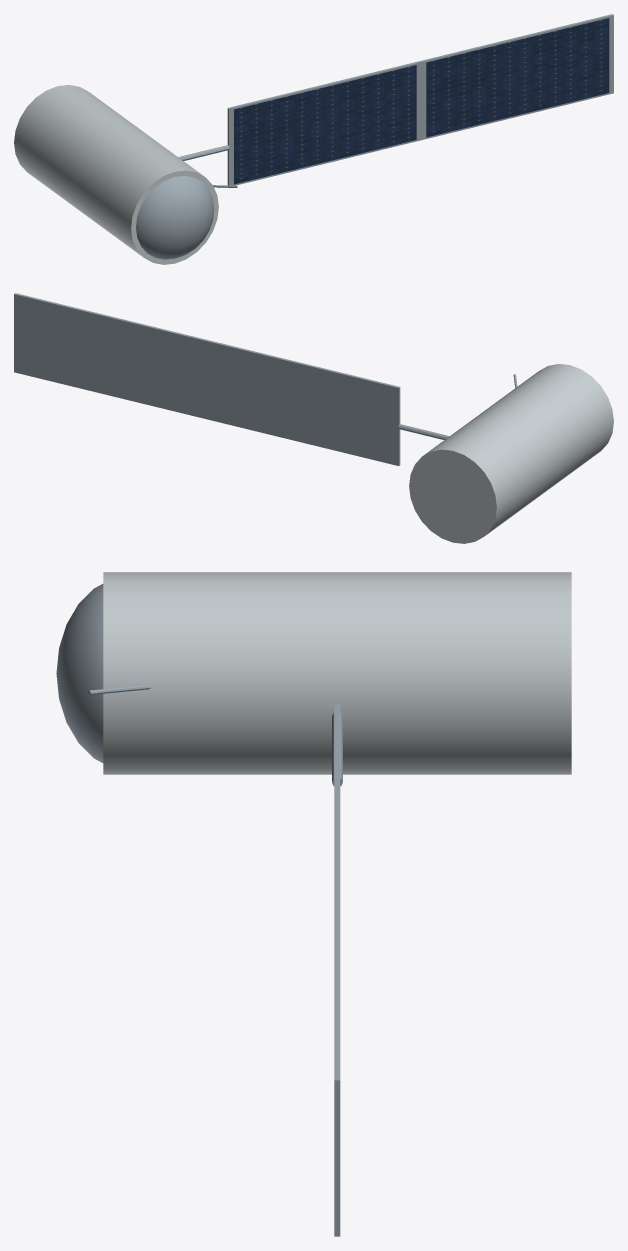
File: ref-object-d-746.glb
3 renders of one model, top to bottom at view 1: azimuth 30°, elevation 25°; view 2: azimuth 150°, elevation 25°; view 3: azimuth 270°, elevation 25°, orthographic. The views are drawn at different scales.
Parts seen in each view (by area): view 1: Photovoltaic laminates (×2), Spacecraft body, Dome, Array frame (×2); view 2: Array frame (×2), Spacecraft body; view 3: Spacecraft body, Dome, Array frame (×2).
Boxes of the visible parts, box(x1,y1,x2,y2) form: Photovoltaic laminates (×2): box(234, 18, 609, 184); Spacecraft body: box(14, 85, 218, 264); Dome: box(136, 175, 214, 259); Array frame (×2): box(227, 14, 613, 185); Array frame (×2): box(14, 293, 400, 465); Spacecraft body: box(409, 364, 613, 543); Spacecraft body: box(103, 572, 571, 774); Dome: box(56, 584, 103, 762); Array frame (×2): box(334, 704, 340, 1236).
Size of the model in its own units: 4 by 0.65 by 1.65.
Materials: 3 (1 with a texture image).
